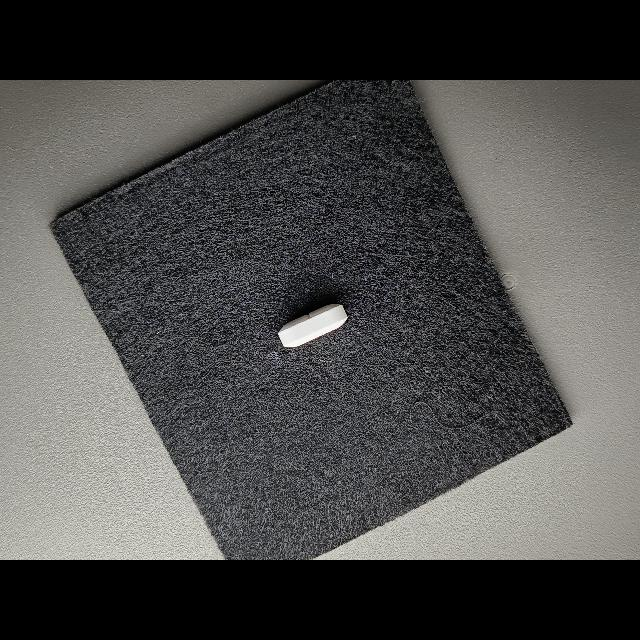Intact Pill: (278, 304, 348, 348)
